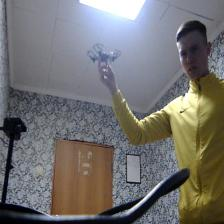drone: (86, 40, 122, 68)
